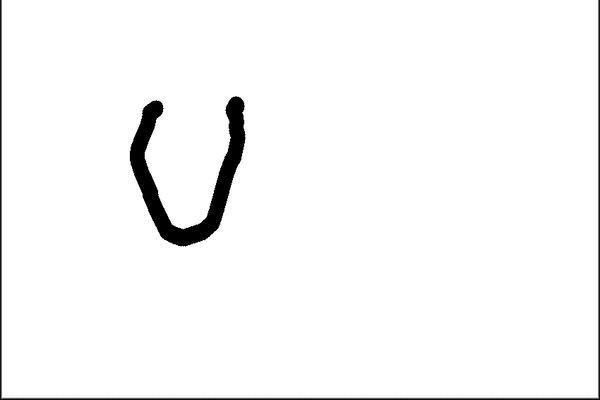U: (131, 90, 244, 252)
